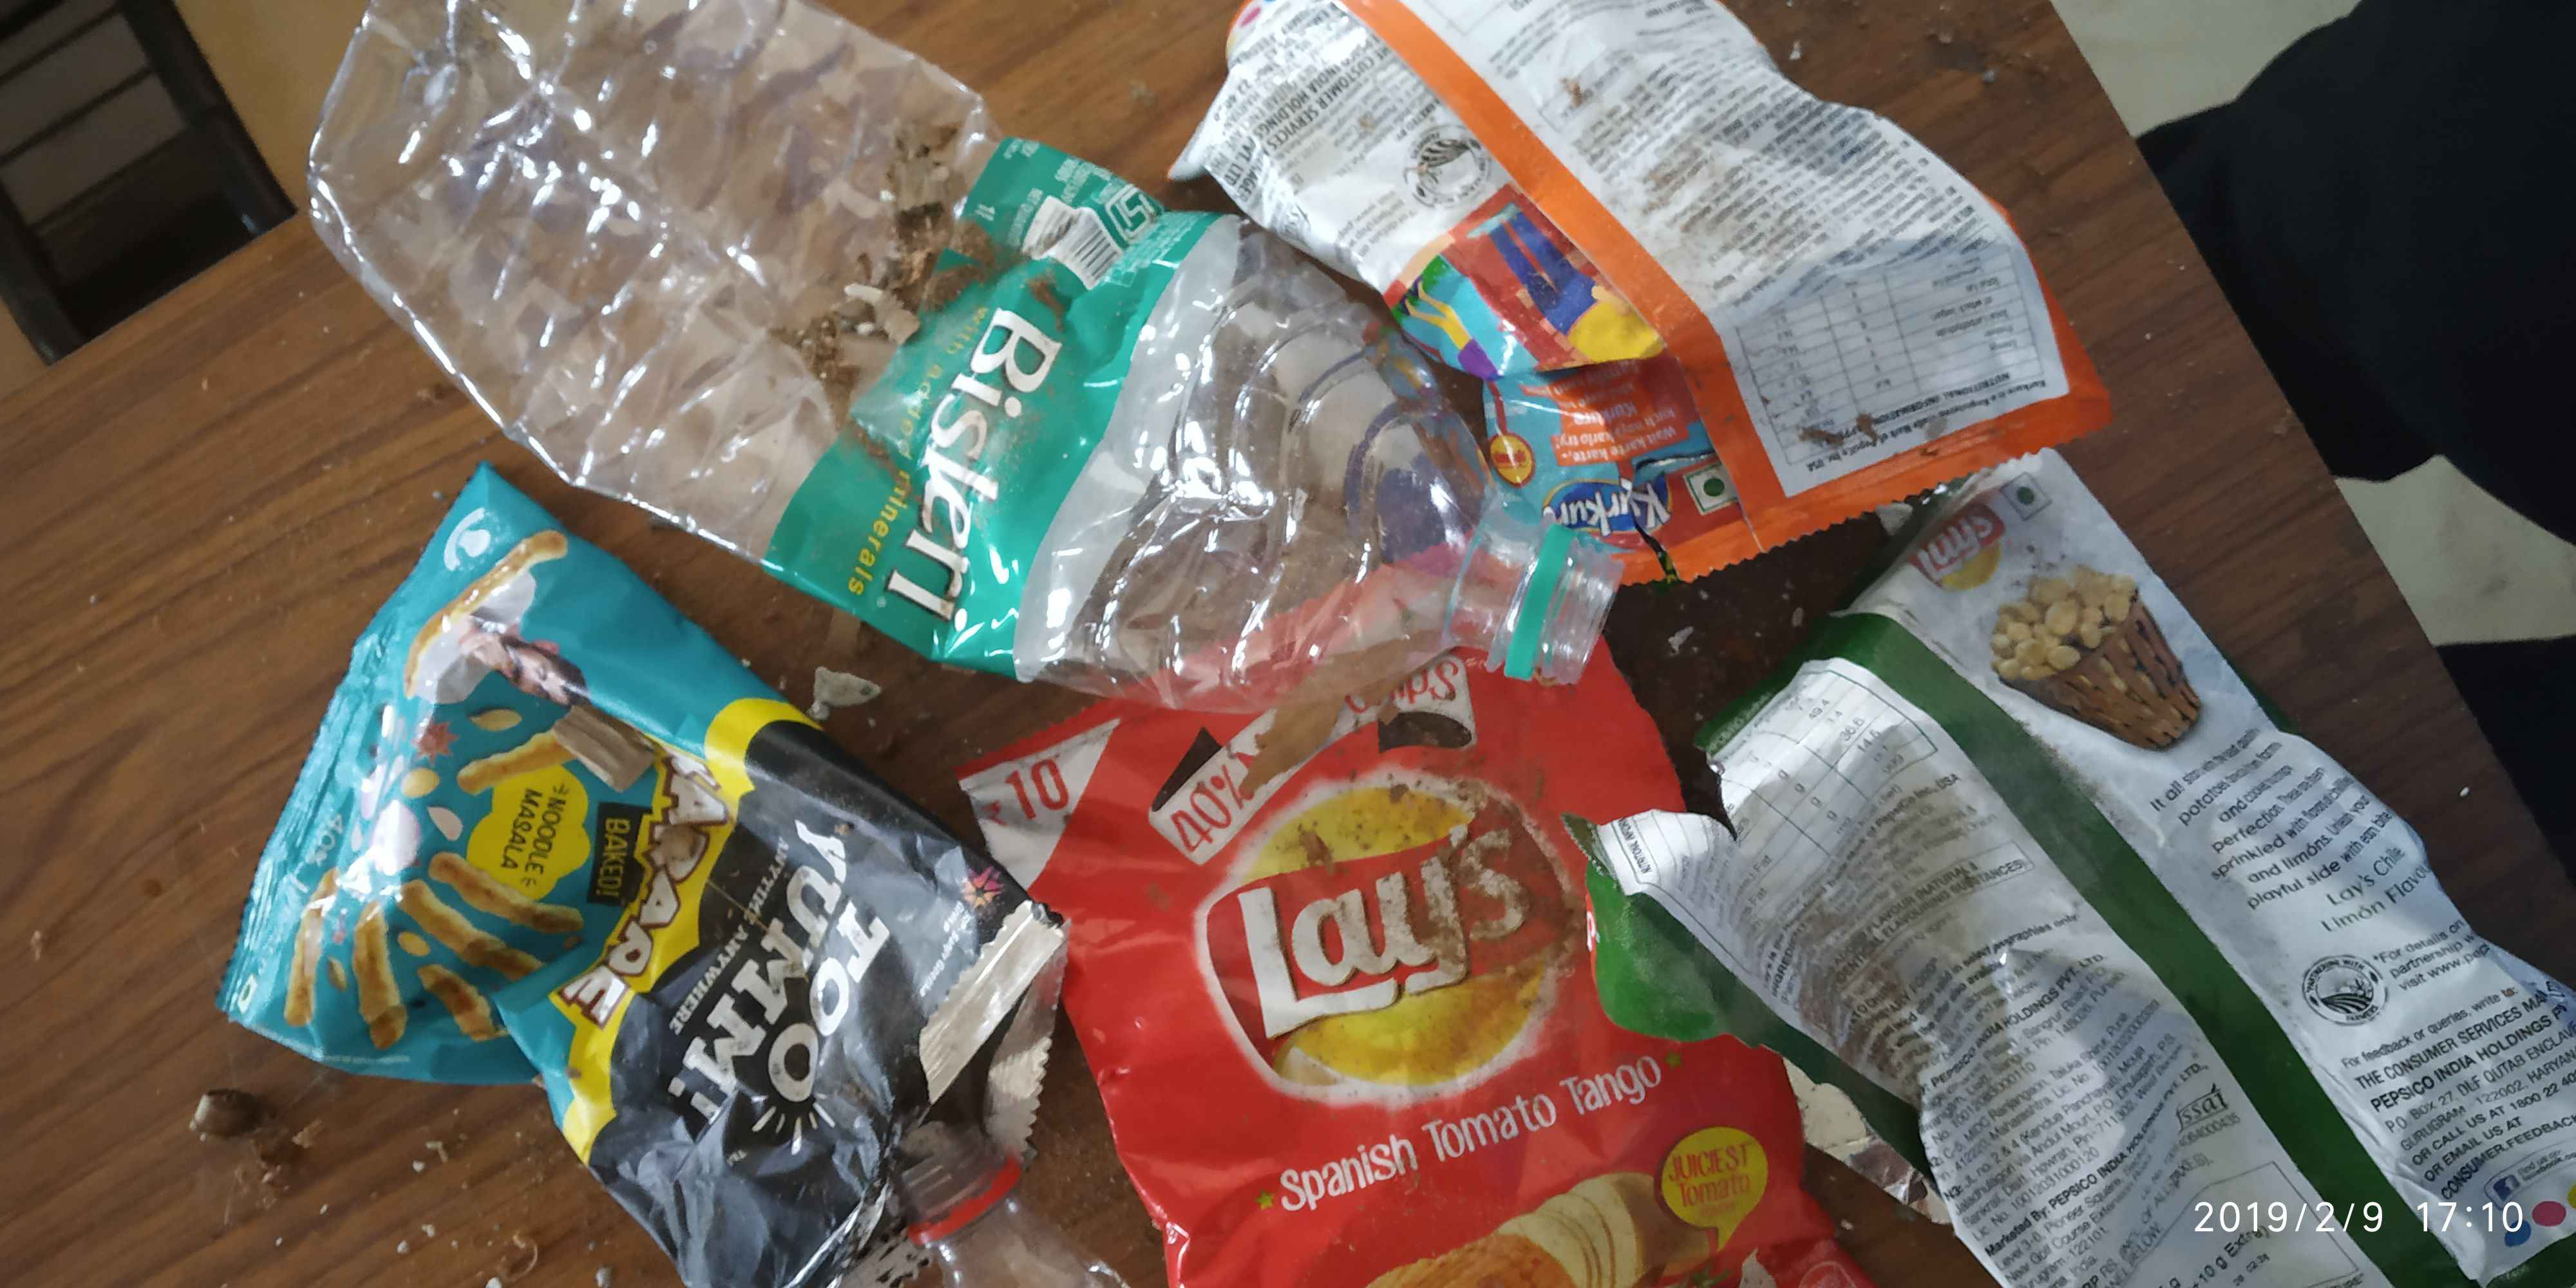Bisleri: (862, 176, 1138, 619)
Lays: (1199, 736, 1585, 1157), (1899, 467, 2029, 619)
kurkure: (1531, 460, 1720, 531)
tooyumm: (652, 815, 910, 1142)
